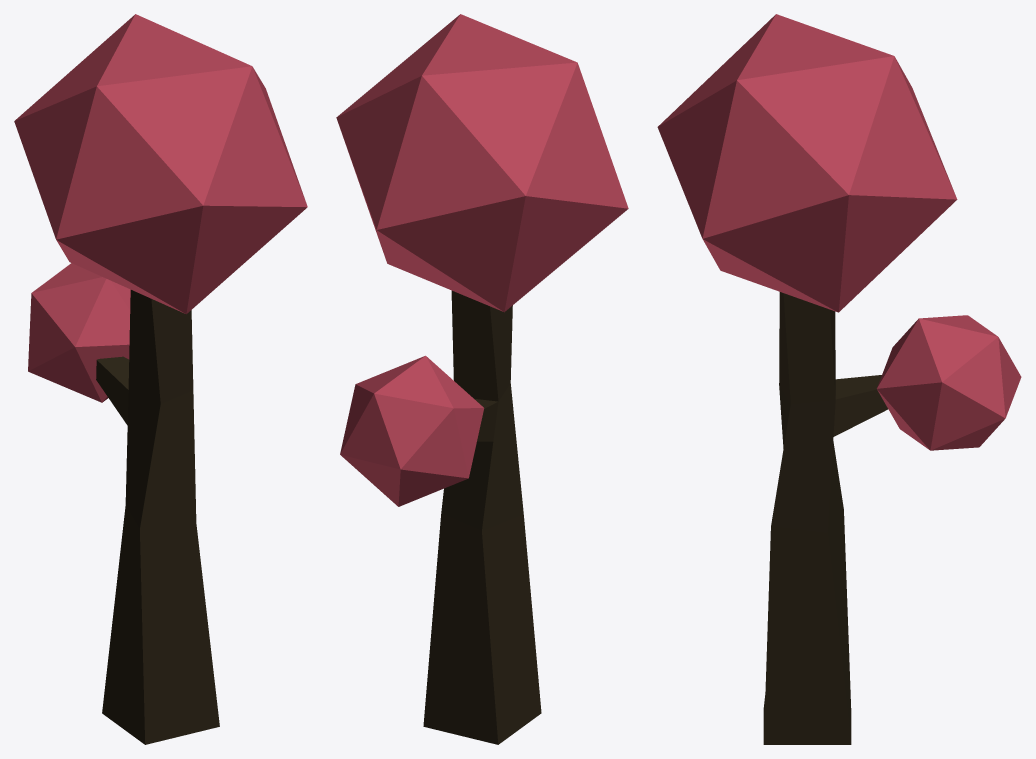
The model's file is tree.obj.
3 views of the same model, side by side, from view 1: azimuth 30°, elevation 25°; view 2: azimuth 150°, elevation 25°; view 3: azimuth 270°, elevation 25° (orthographic).
Parts seen in each view (by area): view 1: Icosphere; view 2: Icosphere; view 3: Icosphere.
Boxes of the visible parts, x1,y1,x2,y2 form: Icosphere: (14, 14, 307, 744); Icosphere: (336, 14, 628, 744); Icosphere: (657, 14, 1021, 744).
Size of the model in its own units: 2.82 by 7.2 by 3.5.
Materials: 1 (1 with a texture image).
